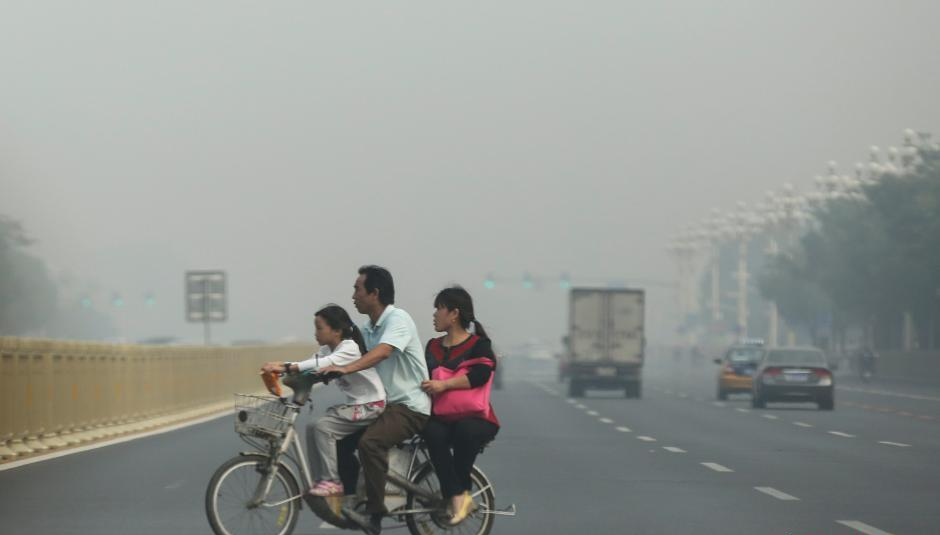car: (565, 285, 645, 399), (748, 341, 837, 409), (712, 335, 773, 399)
motorbike: (202, 359, 516, 535)
person: (332, 263, 434, 535), (260, 302, 387, 497), (414, 284, 495, 522)
